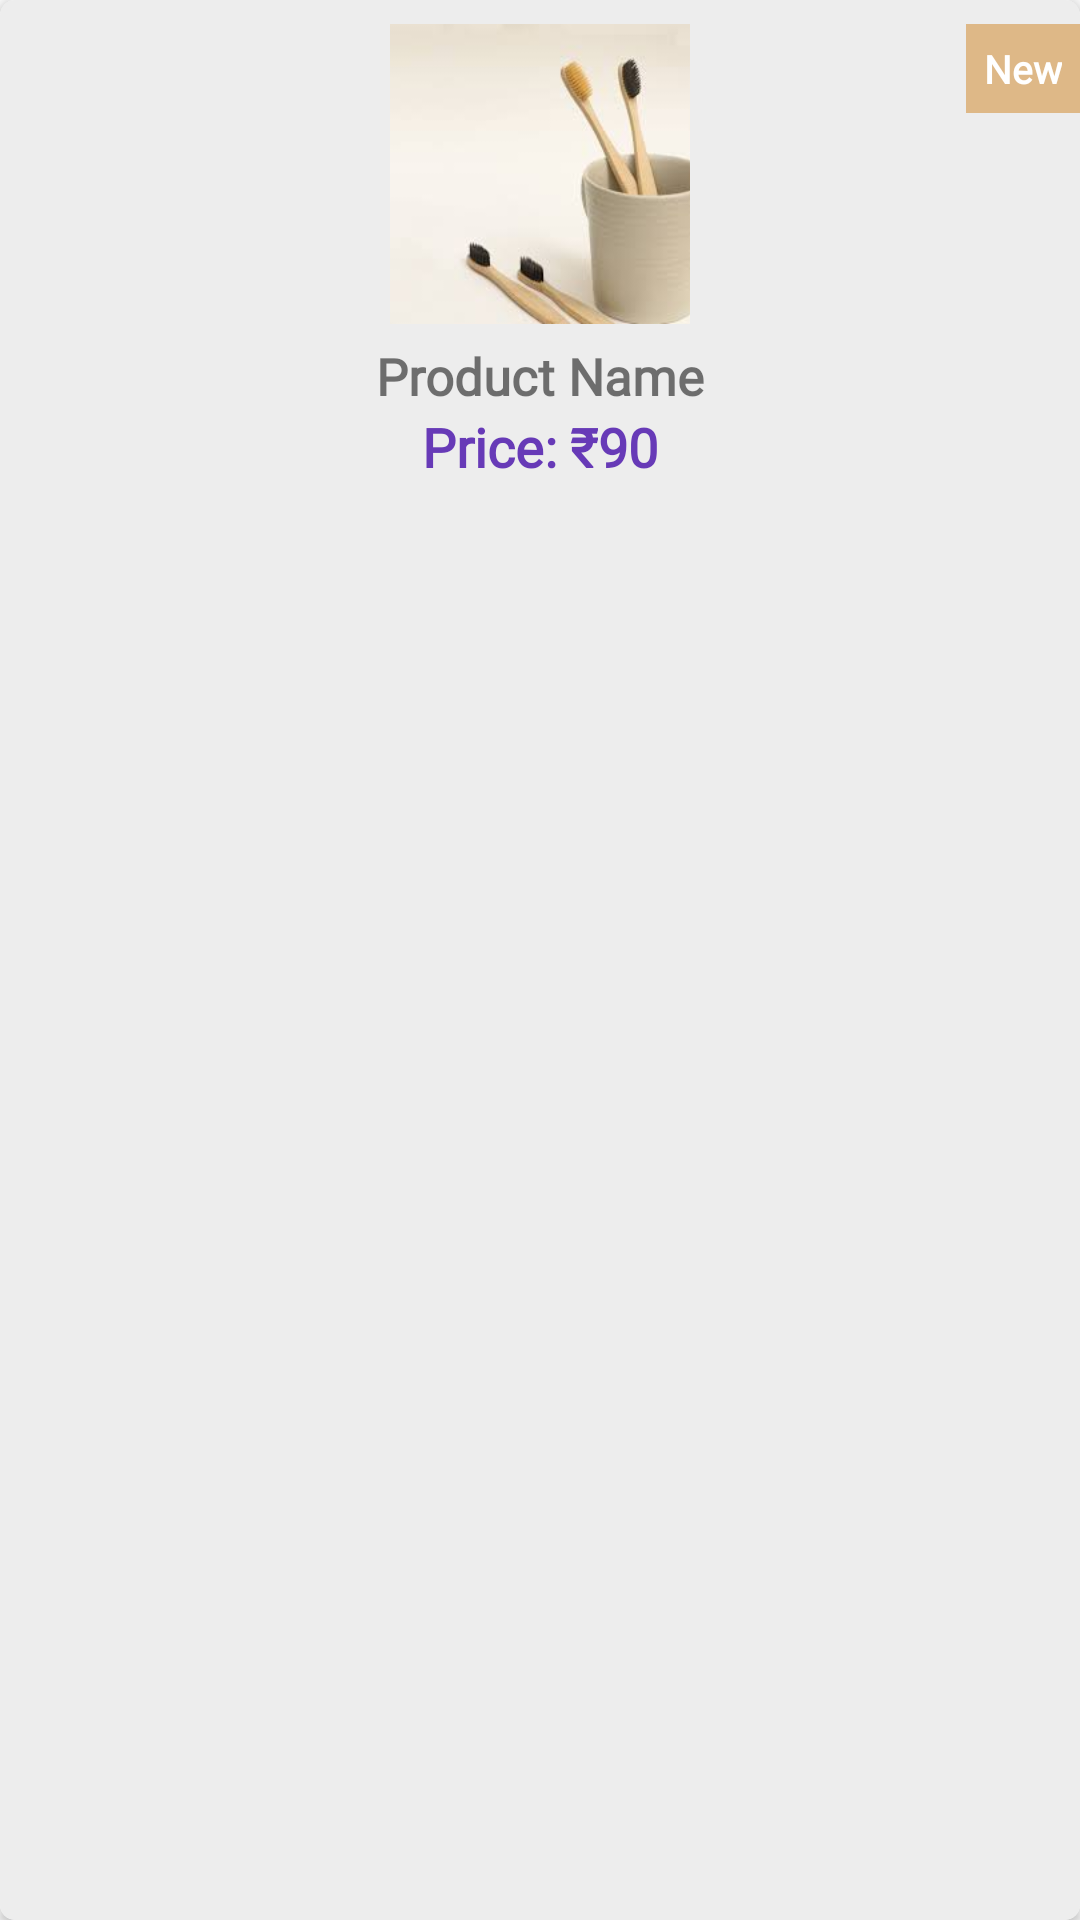

Where to tap for icons on this 1080px x 1920px app screen, as [x,y]:
toothbrush: [540,174]
